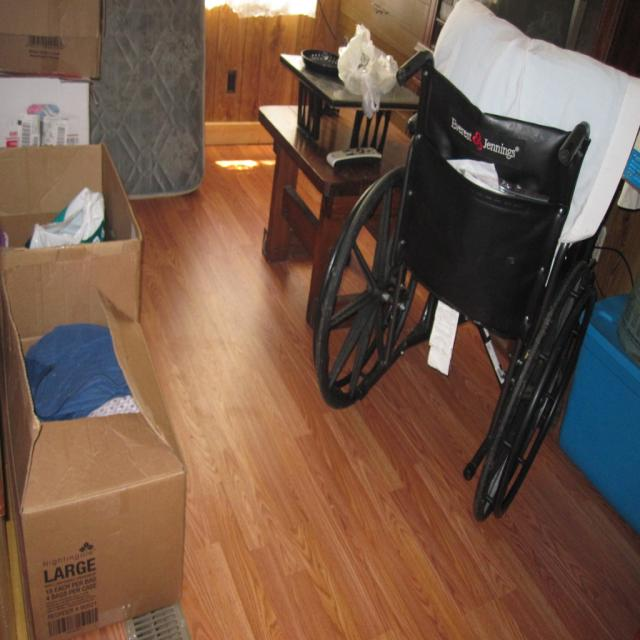wheelchairs: (316, 55, 596, 526)
